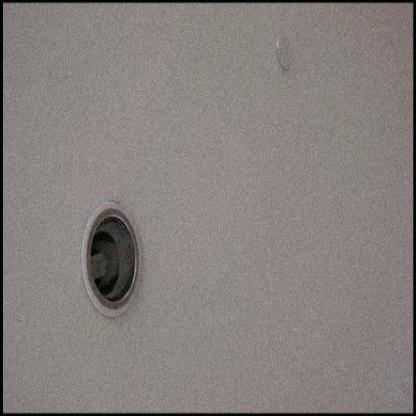light_off: (51, 172, 153, 326)
